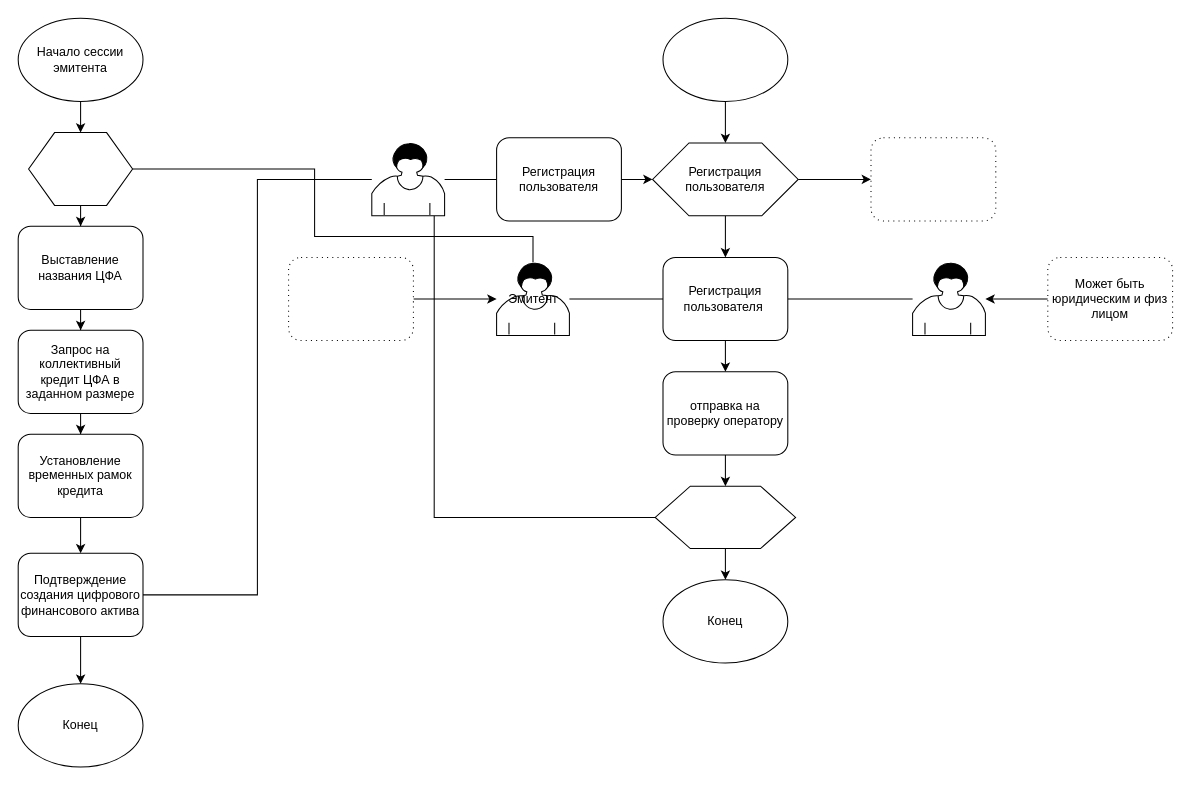
Some shapes in this 1191 by 785 pixel diagram are drawn without their labels. The box of each missing label's shape, as (x1, y1, x2, y2) in pixels:
Выпуск цифровых финансовых активов: (28, 132, 133, 205)
Инвестор: (912, 262, 985, 335)
Может быть только Юр лицом: (288, 256, 413, 341)
Начало сессии регистрации: (662, 17, 788, 101)
Оператор проверяет заявки о регистрации и одобряет или нет: (654, 485, 796, 549)
Опертаор: (371, 142, 445, 216)
Человек может быть зарегистрирован, если его заверил оператор: (870, 137, 996, 221)
